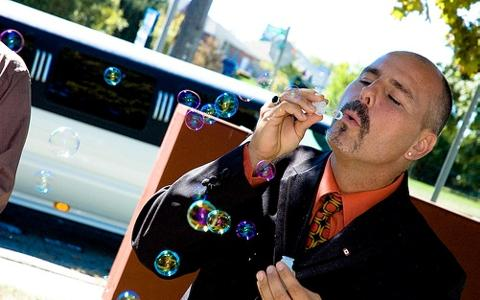person: (132, 51, 467, 300)
